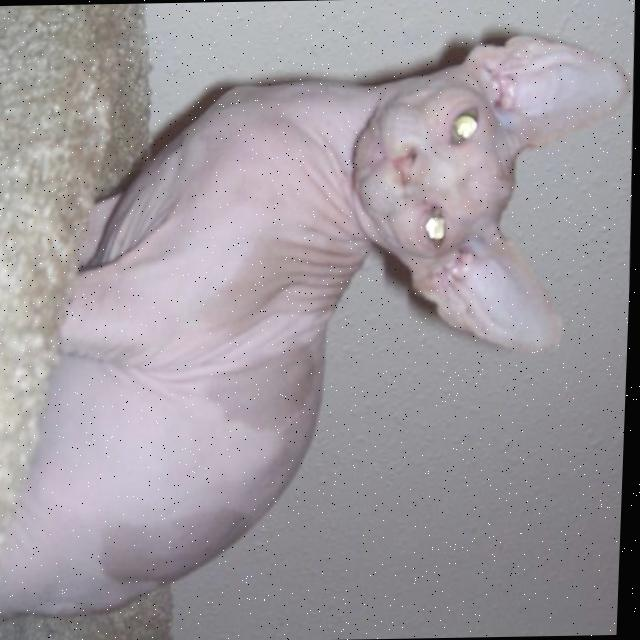Sphynx: (0, 29, 639, 626)
